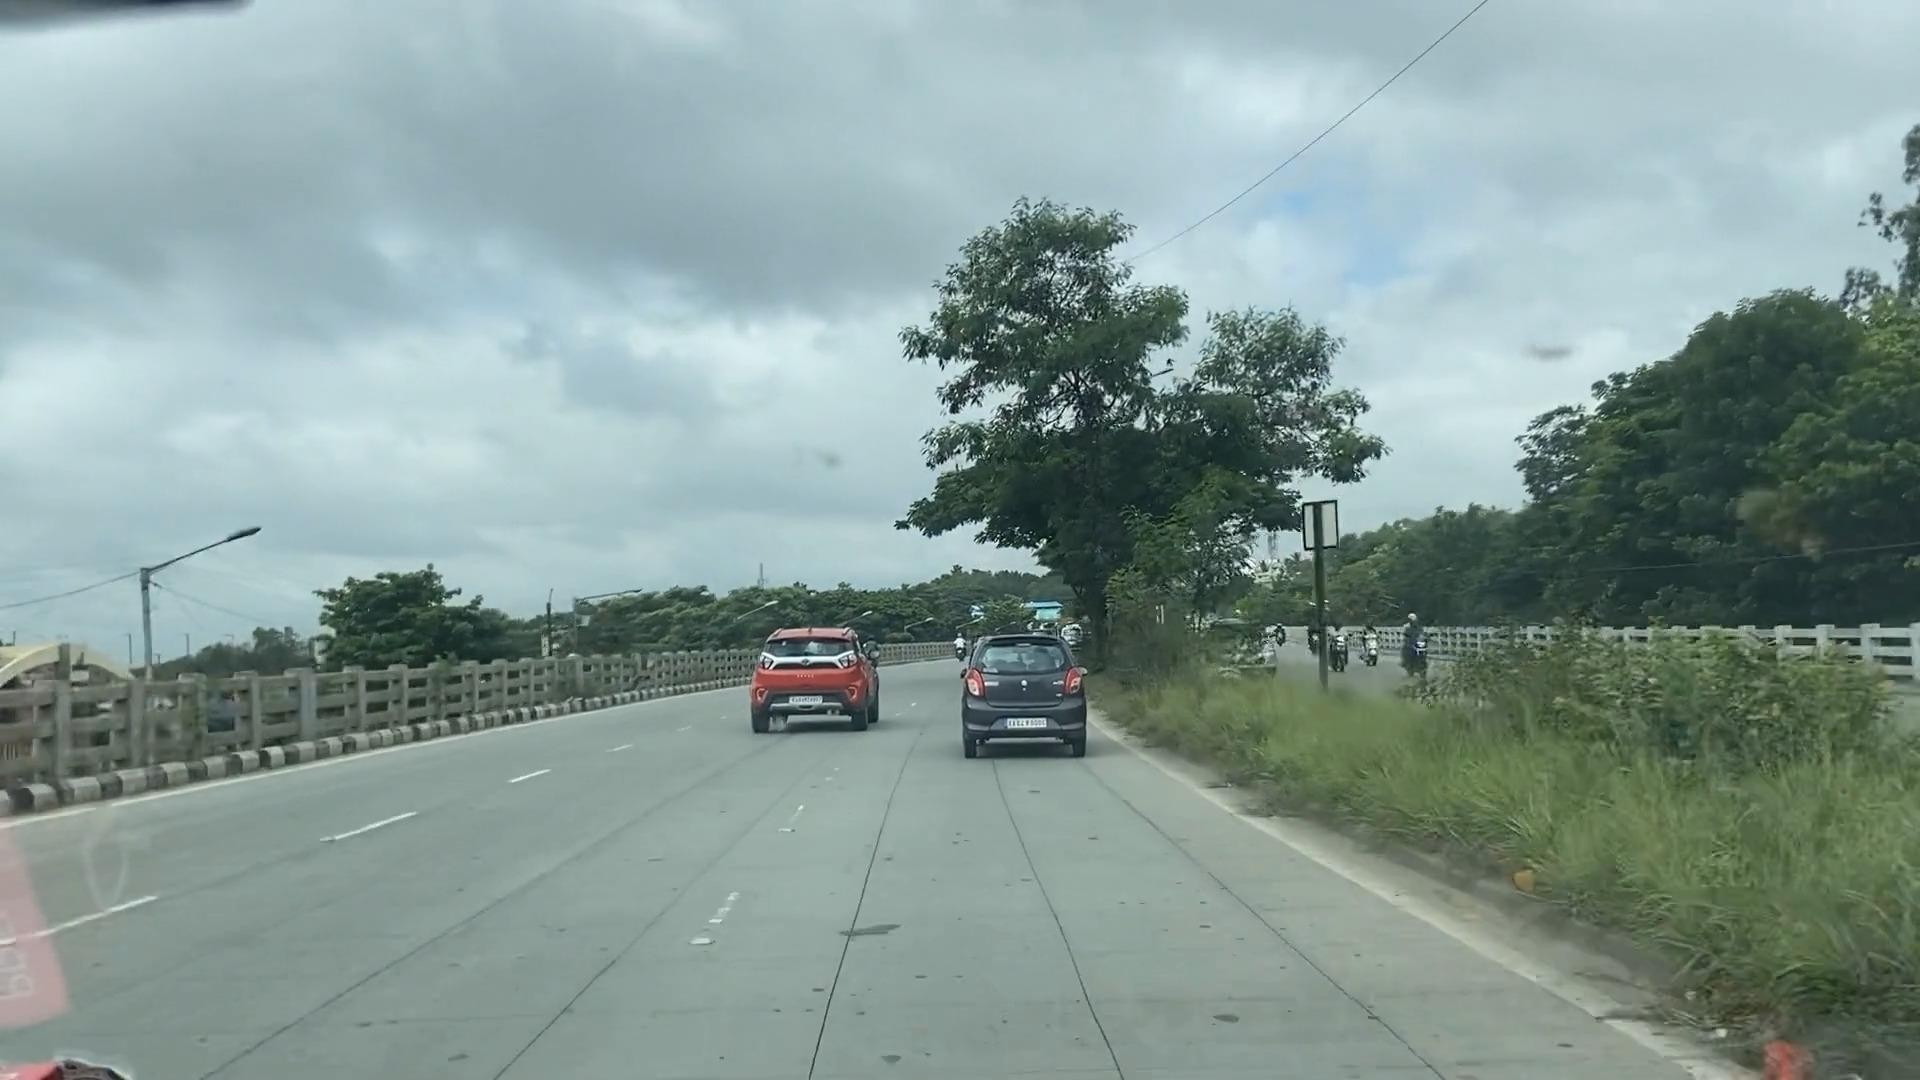LMV: (963, 638, 1087, 761), (754, 632, 881, 736)
